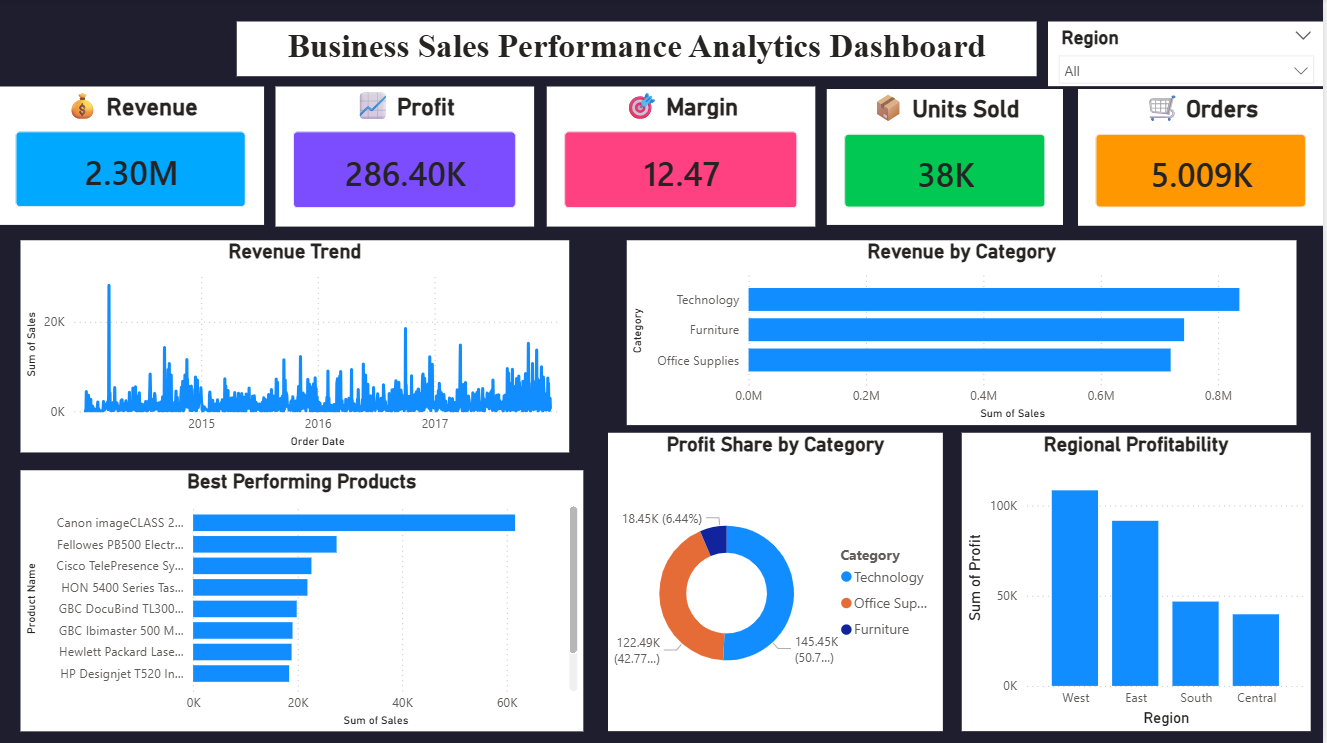

Layout of this report page (visuals, bound fields, positions):
{"tool":"powerbi","page":{"name":"Page 1","canvas":[1280,720],"ordinal":0},"visuals":[{"type":"cardVisual","title":"💰 Revenue","fields":{"Data":["Sum(Sample - Superstore.Sales)"]},"box":[0,84.5,257,133.9],"z":0},{"type":"cardVisual","title":"📈 Profit","fields":{"Data":["Sum(Sample - Superstore.Profit)"]},"box":[267.8,84.5,249.7,135.1],"z":1000},{"type":"cardVisual","title":"📦 Units Sold","fields":{"Data":["Sum(Sample - Superstore.Quantity)"]},"box":[799.9,86.9,228,131.5],"z":2000},{"type":"cardVisual","title":"🛒 Orders","fields":{"Data":["Count(Sample - Superstore.Order ID)"]},"box":[1041.8,86.3,237.7,131.7],"z":3000},{"type":"lineChart","title":"Revenue Trend","fields":{"Y":["Sum(Sample - Superstore.Sales)"],"Category":["Sample - Superstore.Order Date"]},"box":[21.7,232.8,529.6,205.1],"z":4000},{"type":"clusteredBarChart","title":"Revenue by Category","fields":{"Category":["Sample - Superstore.Category"],"Y":["Sum(Sample - Superstore.Sales)"]},"box":[606.8,232.8,646.7,178.6],"z":5000},{"type":"clusteredColumnChart","title":" Regional Profitability","fields":{"Category":["Sample - Superstore.Region"],"Y":["Sum(Sample - Superstore.Profit)"]},"box":[930.2,418.6,336.6,288.3],"z":6000},{"type":"barChart","title":"Best Performing Products","fields":{"Category":["Sample - Superstore.Product Name"],"Y":["Sum(Sample - Superstore.Sales)"]},"box":[21.7,454.8,542.9,252.1],"z":7000},{"type":"donutChart","title":"Profit Share by Category","fields":{"Category":["Sample - Superstore.Category"],"Y":["Sum(Sample - Superstore.Profit)"]},"box":[588.7,418.6,323.3,288.3],"z":8000},{"type":"slicer","fields":{"Values":["Sample - Superstore.Region"]},"box":[1013.4,21.7,266.6,62.7],"z":9000},{"type":"textbox","box":[230.2,21.2,772.2,53],"z":10000},{"type":"cardVisual","title":"🎯 Margin","fields":{"Data":["Sample - Superstore.Profit Margin %"]},"box":[529.6,84.5,259.4,135.1],"z":11000}]}

Visuals, with their boxes in screenshot pixels (x1, y1, x2, y2), scaled from the page's 1280x720 canvas onto the 1327x743 screenshot:
"💰 Revenue" cardVisual: pyautogui.locateOnScreen(0, 87, 266, 225)
"📈 Profit" cardVisual: pyautogui.locateOnScreen(278, 87, 537, 227)
"📦 Units Sold" cardVisual: pyautogui.locateOnScreen(829, 90, 1066, 225)
"🛒 Orders" cardVisual: pyautogui.locateOnScreen(1080, 89, 1326, 225)
"Revenue Trend" lineChart: pyautogui.locateOnScreen(22, 240, 572, 452)
"Revenue by Category" clusteredBarChart: pyautogui.locateOnScreen(629, 240, 1300, 425)
" Regional Profitability" clusteredColumnChart: pyautogui.locateOnScreen(964, 432, 1313, 729)
"Best Performing Products" barChart: pyautogui.locateOnScreen(22, 469, 585, 729)
"Profit Share by Category" donutChart: pyautogui.locateOnScreen(610, 432, 945, 729)
slicer - Sample - Superstore.Region: pyautogui.locateOnScreen(1051, 22, 1326, 87)
textbox: pyautogui.locateOnScreen(239, 22, 1039, 77)
"🎯 Margin" cardVisual: pyautogui.locateOnScreen(549, 87, 818, 227)
